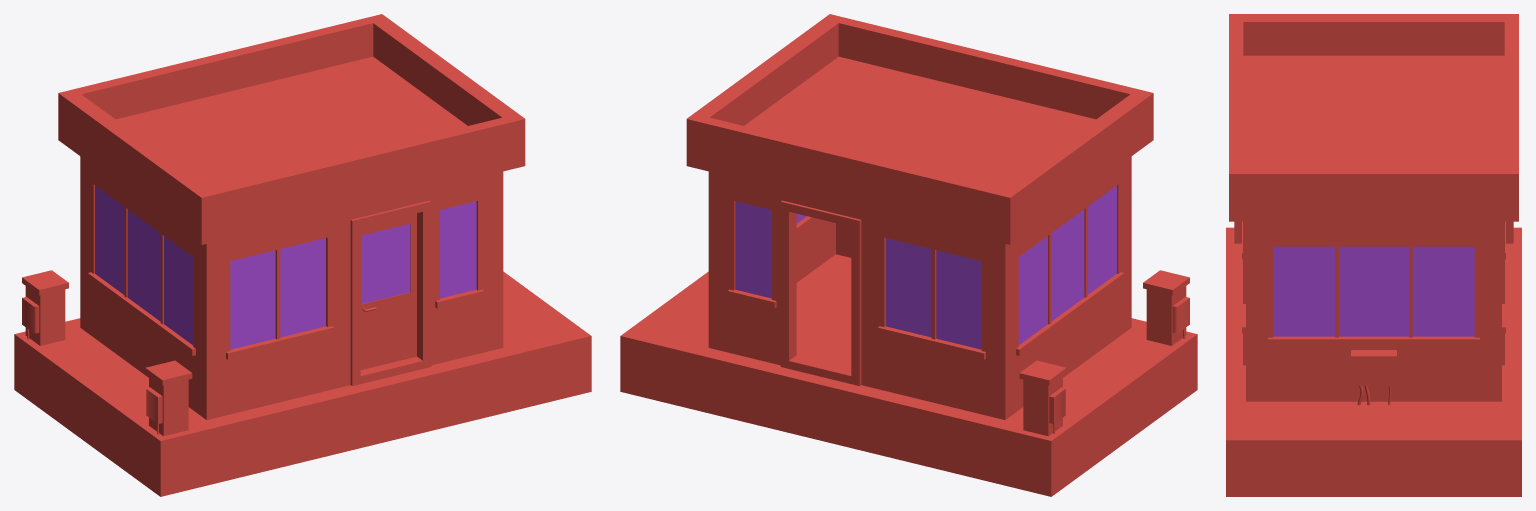
The model's file is CheckpointBuilding.fbx.
3 views of the same model, side by side, from view 1: azimuth 30°, elevation 25°; view 2: azimuth 150°, elevation 25°; view 3: azimuth 270°, elevation 25° (orthographic).
Visible parts, largest first — view 1: Cube.001; view 2: Cube.001; view 3: Cube.001.
Part boxes in pixels (box(x1,y1,x2,y2)): Cube.001: box(14, 14, 591, 496); Cube.001: box(620, 14, 1197, 496); Cube.001: box(1226, 14, 1521, 496).
Bounding box in the file's own units: 668 × 426 × 392.
